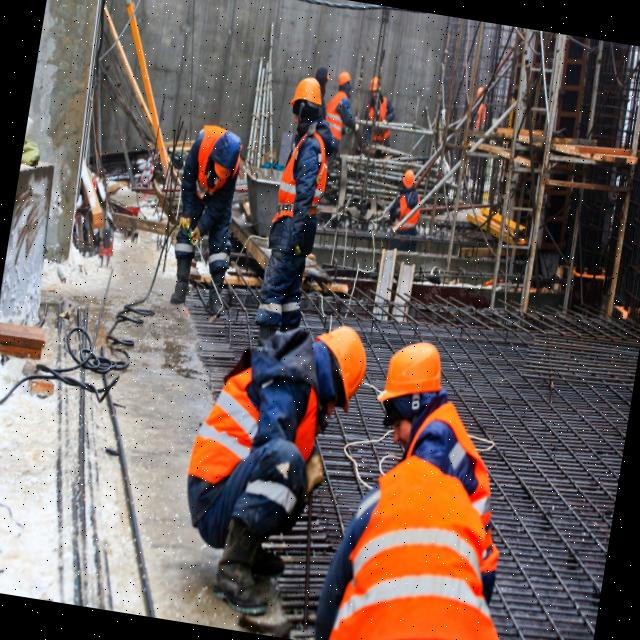Helmet: (309, 322, 374, 415), (377, 338, 448, 417), (290, 77, 325, 113), (210, 165, 237, 187), (337, 72, 357, 94), (368, 78, 384, 100), (402, 170, 418, 191)
Jacket: (346, 460, 499, 640), (196, 354, 303, 516), (276, 131, 331, 238), (189, 128, 216, 194), (325, 95, 351, 142), (367, 104, 393, 142), (397, 195, 420, 232)
